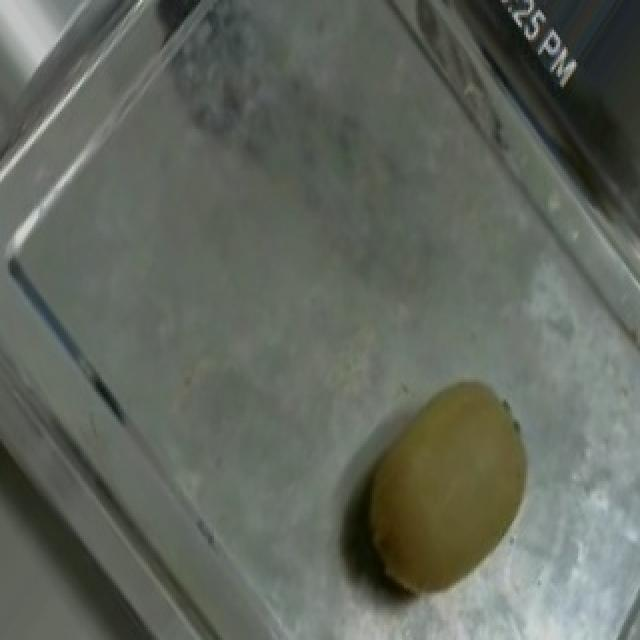Fruit: (318, 352, 570, 630)
